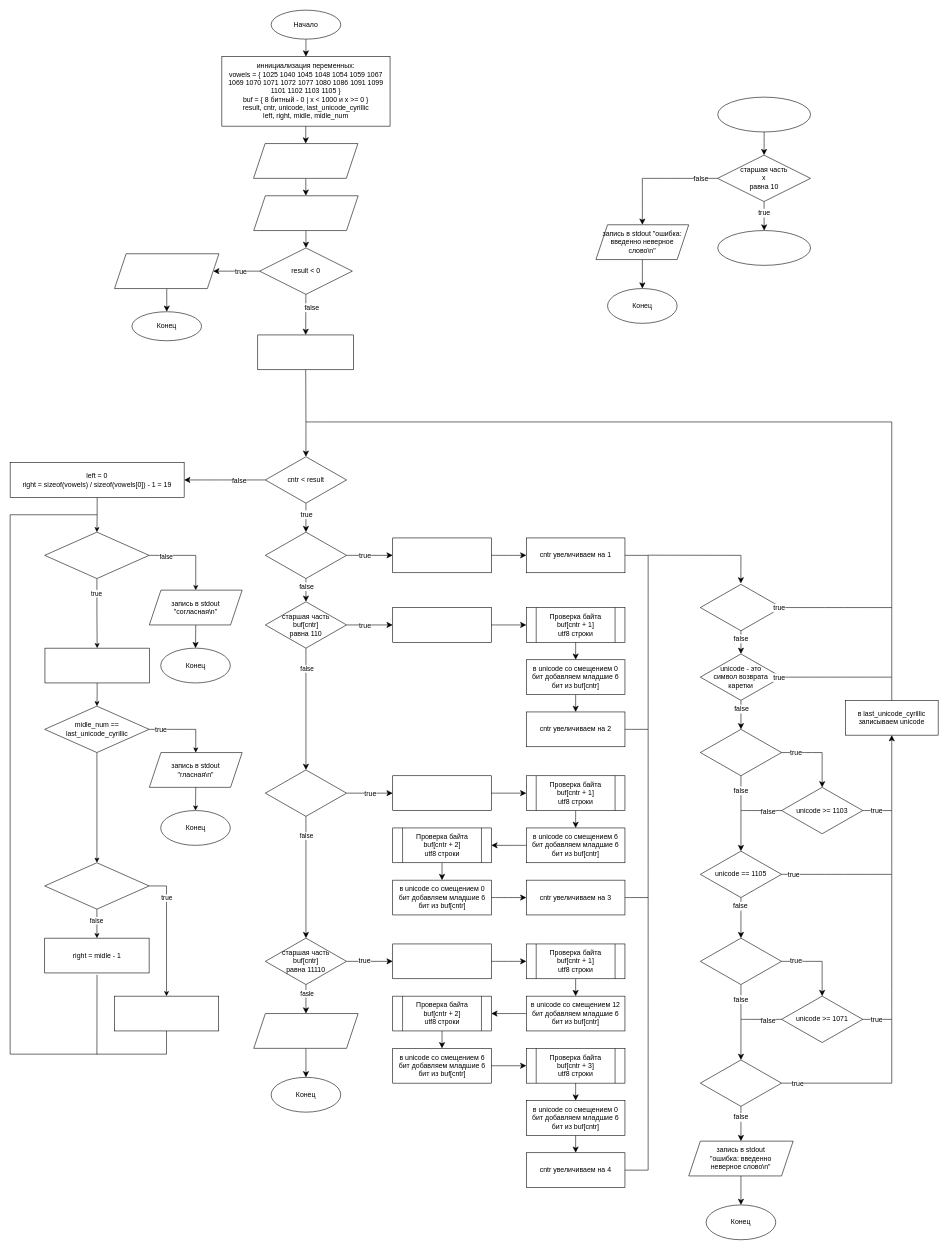
This 948x1250 diagram has some shape labels left out. The centre of each missing label's shape, as x and y in pixels:
cntr = 0: the point at 305,352
left <= right: the point at 96,555
left = midle + 1: the point at 166,1013
midle = left + (right - left) / 2 midle_num = vowels[midle]: the point at 96,665
midle_num < last_unicode_cyrillic: the point at 96,885
unicode - это символ переноса строки: the point at 741,607
unicode == 1025: the point at 741,1082
unicode >= 1040: the point at 741,961
unicode >= 1072: the point at 741,752
в unicode со смещением 0 бит записываем младшие 7 бит из buf[cntr]: the point at 441,555
в unicode со смещением 12 бит записываем младшие 4 бита из buf[cntr]: the point at 441,793
в unicode со смещением 18 бит записываем младшие 3 бита из buf[cntr]: the point at 441,961
в unicode со смещением 6 бит записываем младшие 5 бит из buf[cntr]: the point at 441,624
запись в stdout "введите русское слово: ": the point at 305,160
запись в stdout "ошибка: read\n": the point at 166,271
запись в stdout "ошибка: введенна неверная utf8 строка\n": the point at 305,1030
Проверка байта x utf8 строки - начало: the point at 764,114
Проверка байта x utf8 строки конец: the point at 764,247
старшая часть buf[cntr] равна 0: the point at 306,555
старшая часть buf[cntr] равна 1110: the point at 306,792
чтение из stdin (сохранение результата работы в result): the point at 305,213
